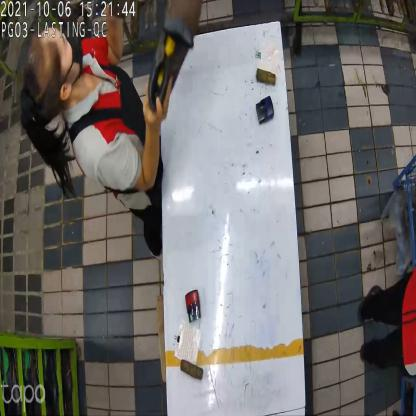stamp: (184, 290, 204, 326), (256, 95, 274, 128)
